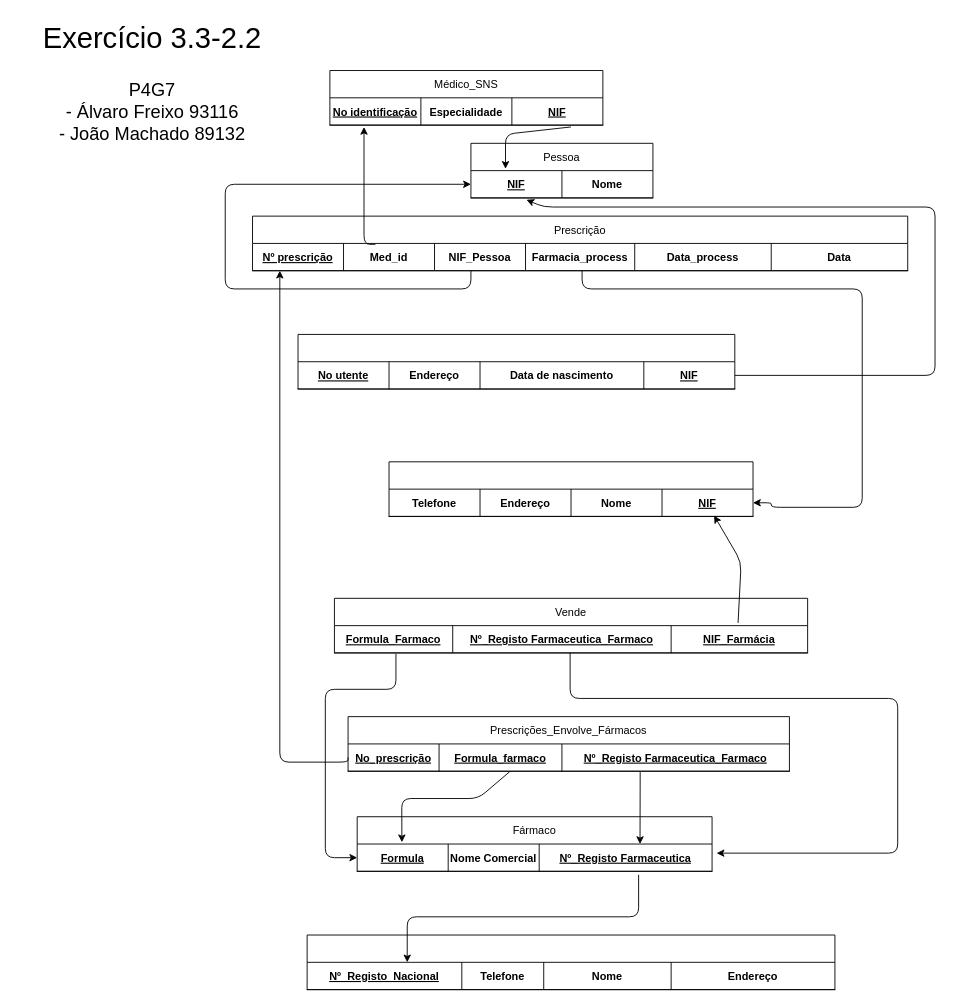
Image size: 958x1006. Some labels were removed from this diagram. Each missing label, with the box of its shape:
Farmaceutica: (306, 934, 835, 990)
Farmácia: (388, 461, 753, 516)
Paciente: (297, 334, 735, 389)
